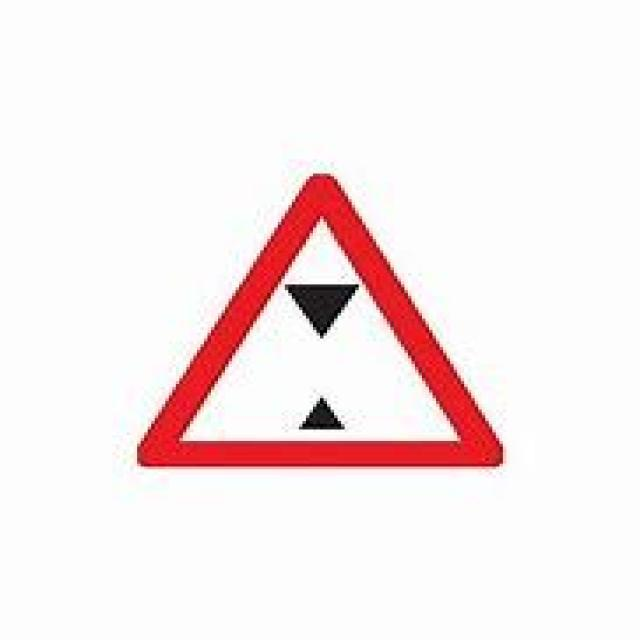height limit: (125, 164, 510, 475)
